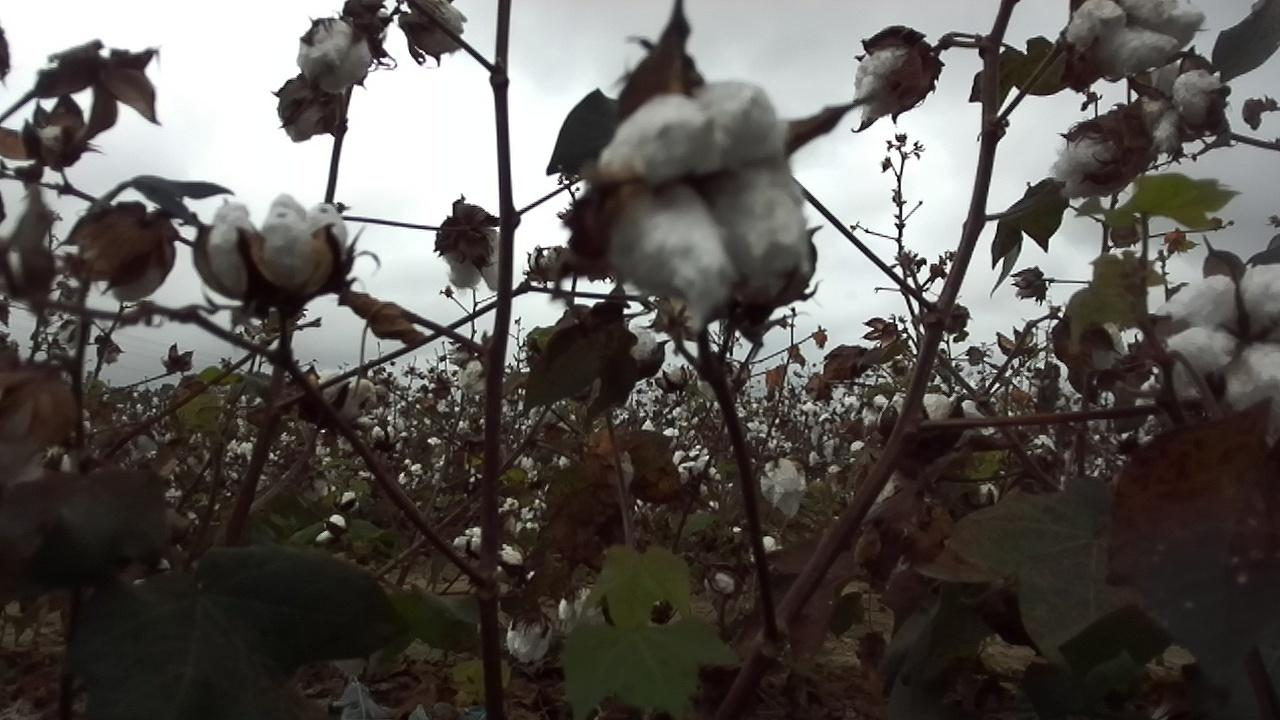cotton_ready: (601, 82, 812, 326), (1162, 269, 1280, 411), (200, 197, 352, 293), (1064, 0, 1205, 75), (564, 320, 664, 417), (1142, 65, 1224, 147), (853, 42, 917, 131), (885, 390, 997, 440), (1049, 134, 1119, 198), (303, 25, 369, 86), (448, 225, 509, 291), (1078, 325, 1149, 379), (752, 455, 807, 523), (412, 0, 469, 55), (317, 369, 379, 418)
